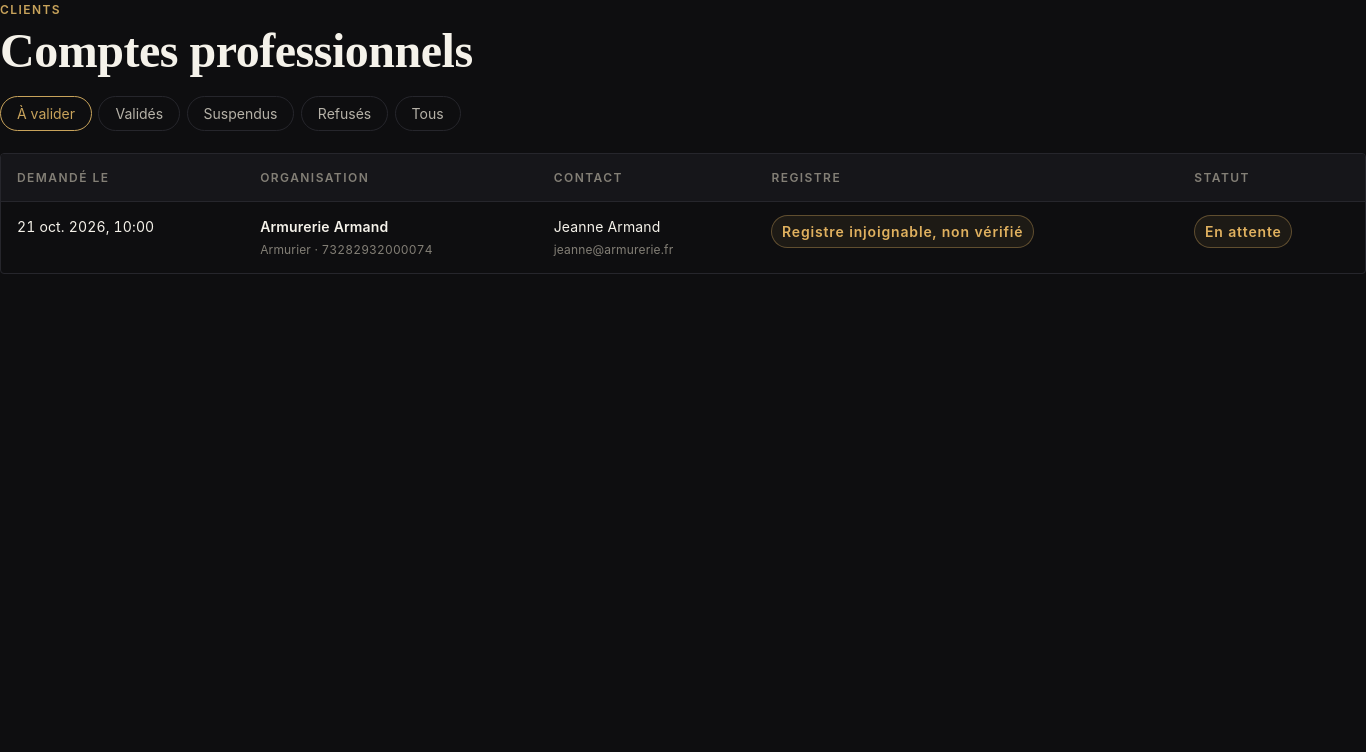
Scenario: admin/organisations.vue (story 12.8b) › explains in French why a SIRET already validated elsewhere cannot be approved
Click the row that starts with "21 oct. 2026, 10:00".
click(86, 226)  # box [1, 202, 1365, 273]
(page scrolled)
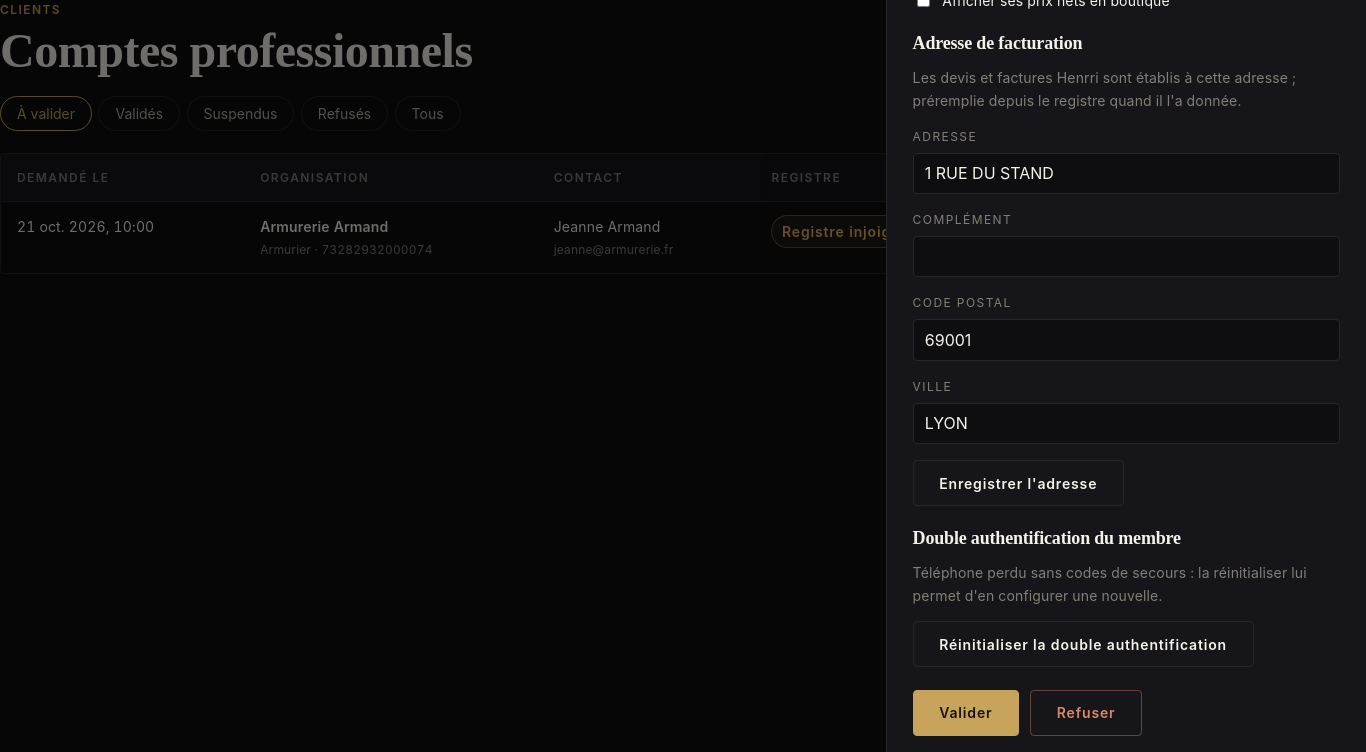
Click the button with class "approve".
click(966, 713)  # box [913, 690, 1019, 736]
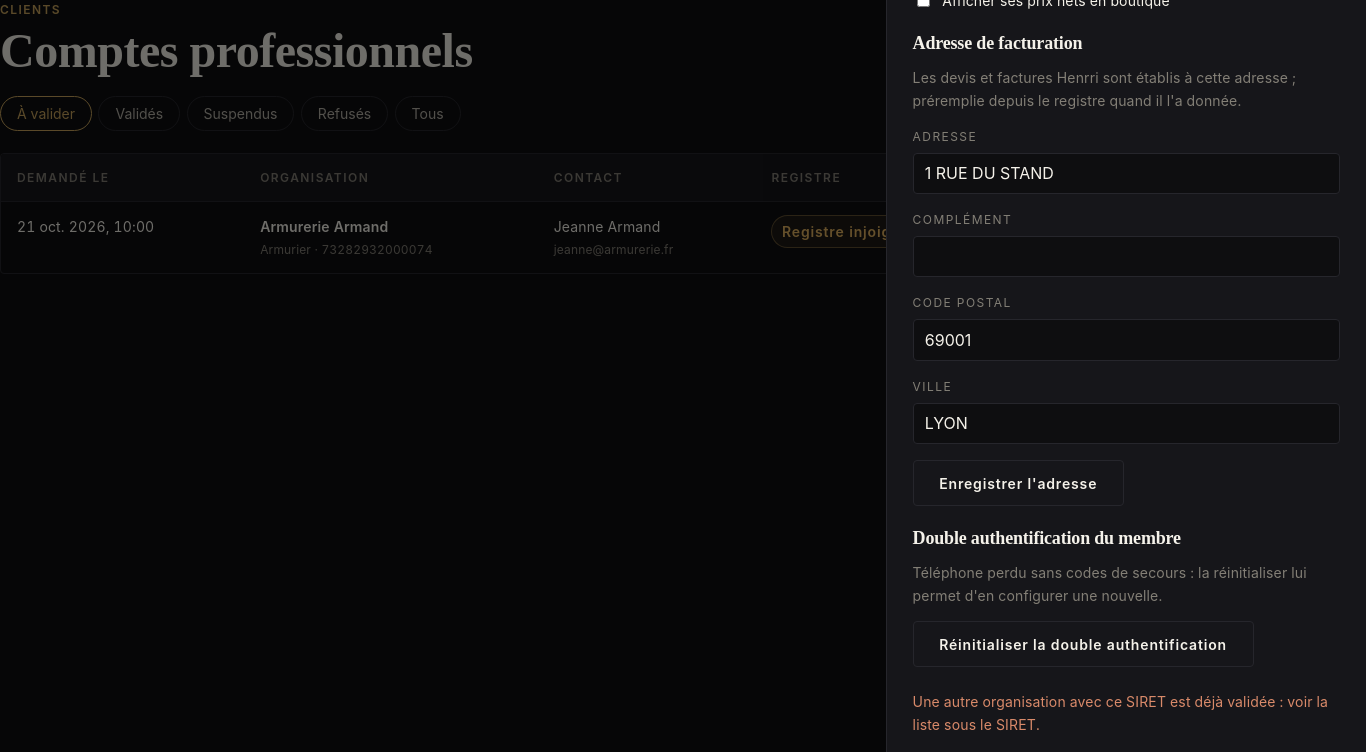
Result: the dialog with class "drawer" shows "Une autre organisation avec ce SIRET est déjà validée" at [913, 693, 1328, 733]
